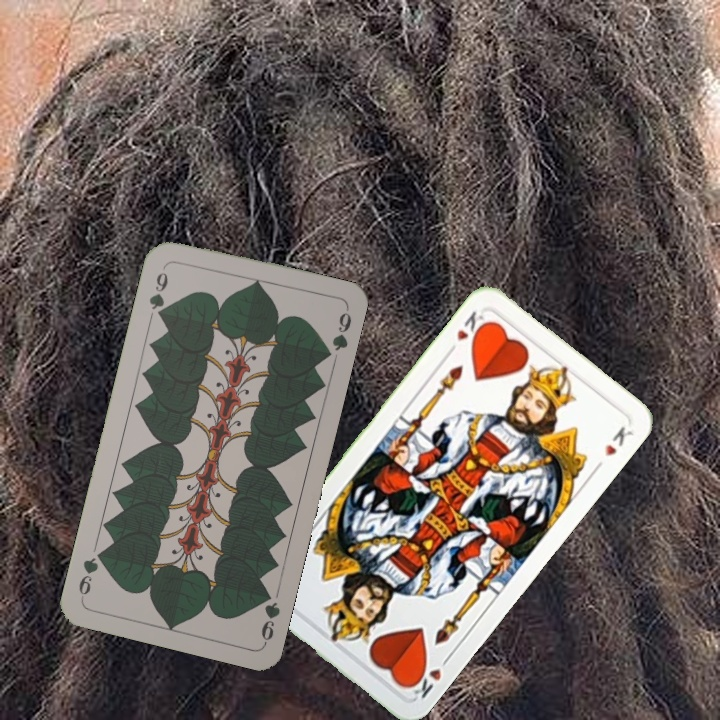G9: (257, 585, 283, 646), (145, 261, 171, 321)
HK: (404, 651, 454, 702), (452, 306, 492, 346)
